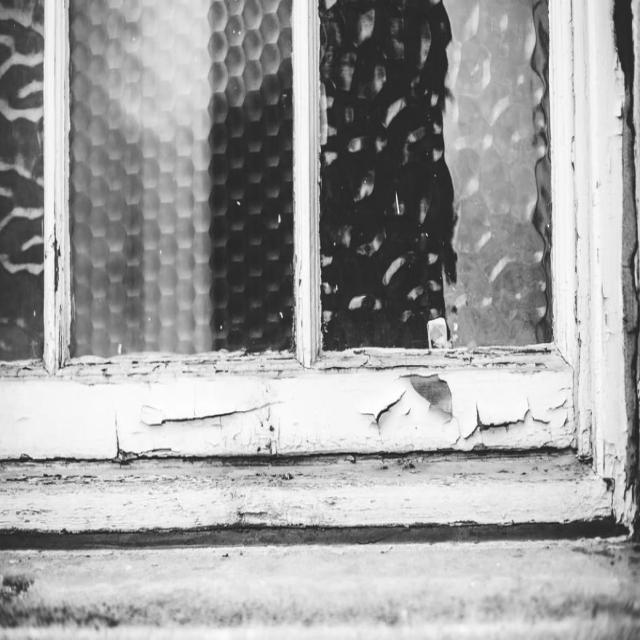peeling paint: (0, 357, 595, 490)
